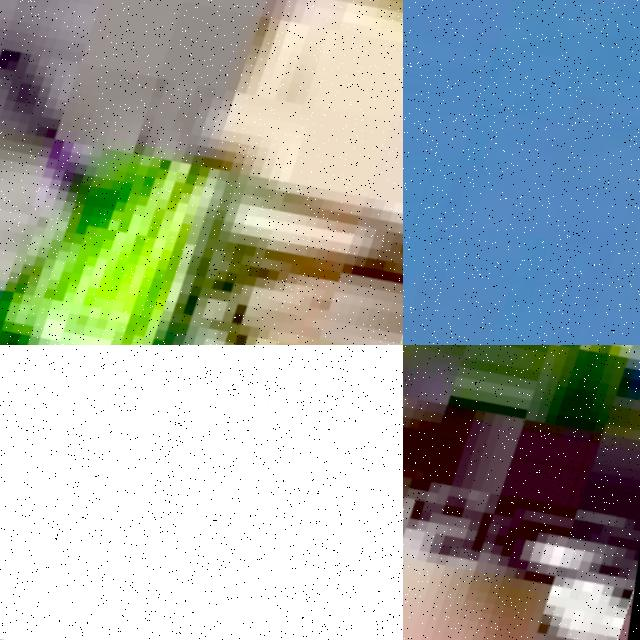0: (0, 0, 403, 345), (403, 345, 640, 640)
drone: (403, 0, 640, 345)
